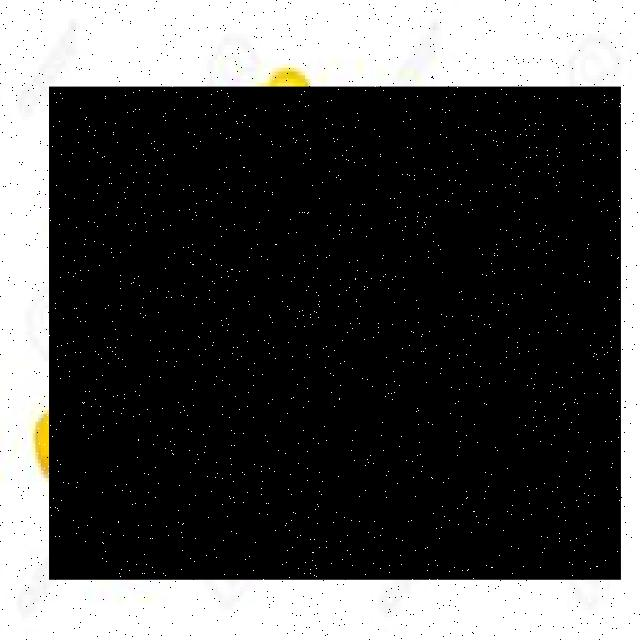Corn: (49, 89, 622, 583)
